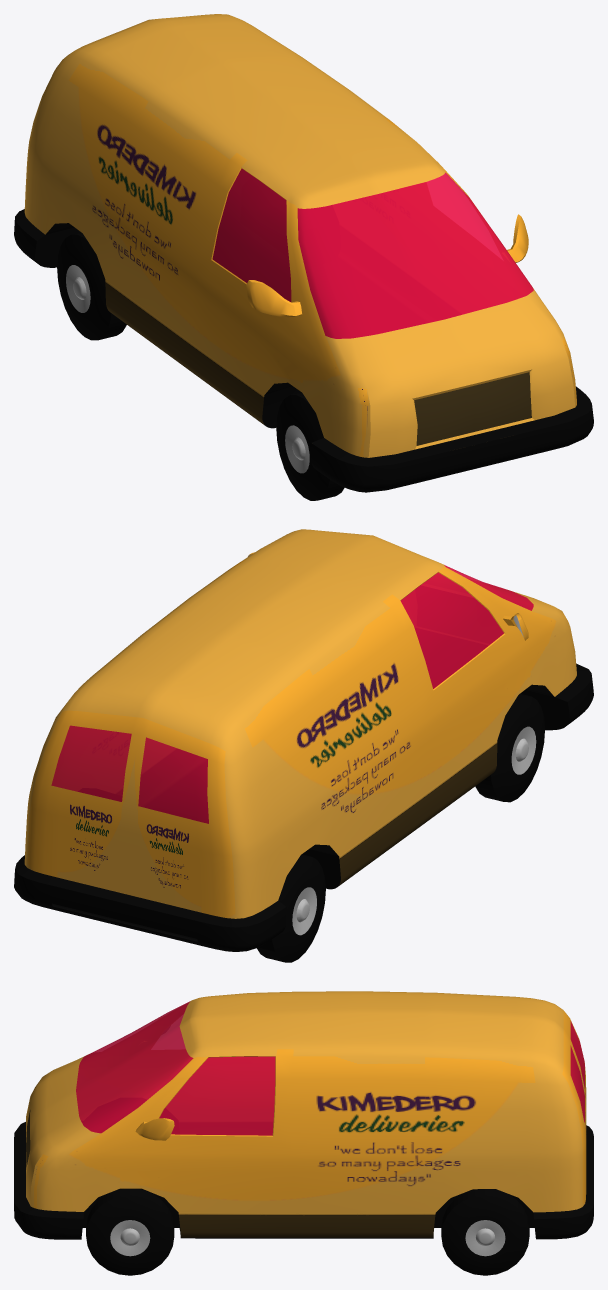
File: Delivery Time Van.glb
3 views of the same model, one above another, from view 1: azimuth 30°, elevation 25°; view 2: azimuth 150°, elevation 25°; view 3: azimuth 270°, elevation 25° (orthographic). The views are drawn at different scales.
Visible parts, largest first — view 1: BODY-RIGID, BACK.RIGHT-WHEEL, FRONT.RIGHT-WHEEL, MIRRORS; view 2: BODY-RIGID, FRONT.RIGHT-WHEEL, BACK.RIGHT-WHEEL; view 3: BODY-RIGID, FRONT.LEFT-WHEEL, BACK.LEFT-WHEEL, MIRRORS.
Part boxes in pixels (box(x1,y1,x2,y2)): BODY-RIGID: box(14, 14, 593, 492); BACK.RIGHT-WHEEL: box(57, 232, 126, 340); FRONT.RIGHT-WHEEL: box(276, 392, 344, 500); MIRRORS: box(246, 214, 528, 317); BODY-RIGID: box(14, 529, 593, 951); FRONT.RIGHT-WHEEL: box(475, 693, 544, 802); BACK.RIGHT-WHEEL: box(257, 854, 325, 962); BODY-RIGID: box(14, 991, 593, 1239); FRONT.LEFT-WHEEL: box(86, 1188, 174, 1275); BACK.LEFT-WHEEL: box(441, 1189, 529, 1275); MIRRORS: box(135, 1118, 174, 1140).
Bounding box in the file's own units: 2.22 × 2.11 × 4.99.
7 materials, 1 textured.
